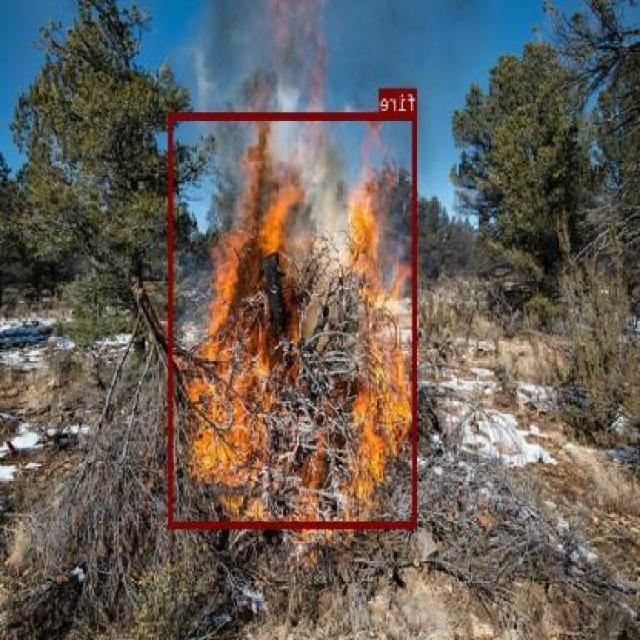Fire: (170, 112, 418, 528)
